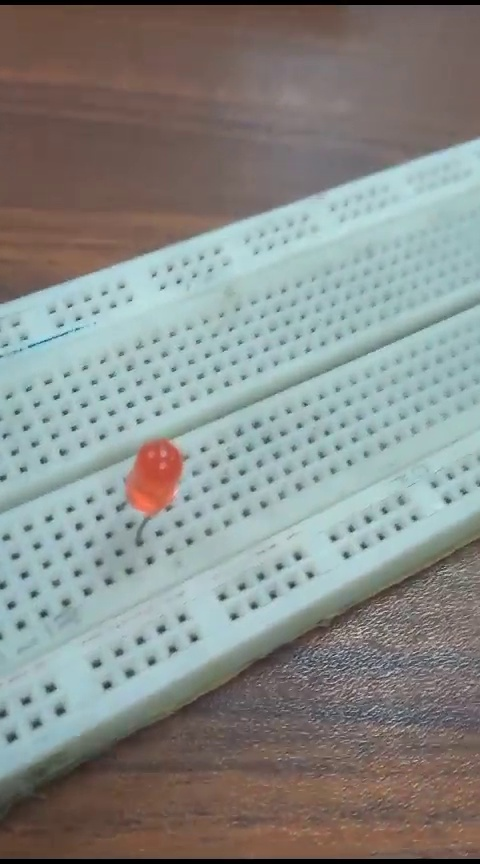LED: (114, 431, 180, 547)
